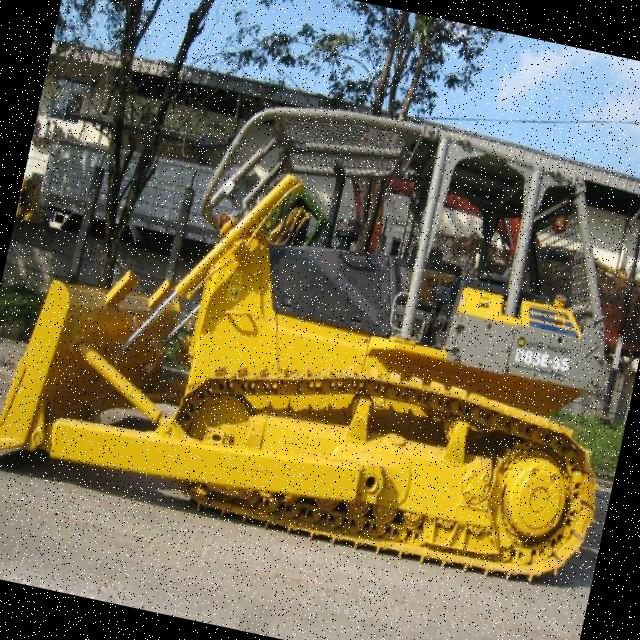Bulldozer: (0, 30, 640, 628)
